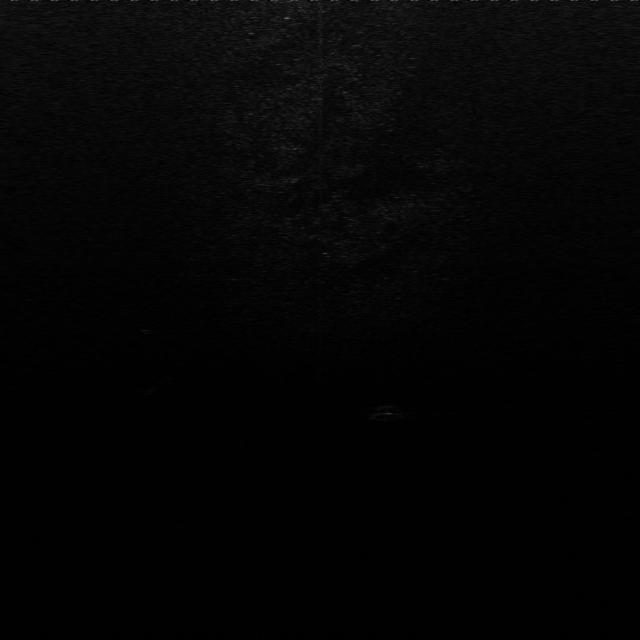tyre: (367, 404, 408, 427)
